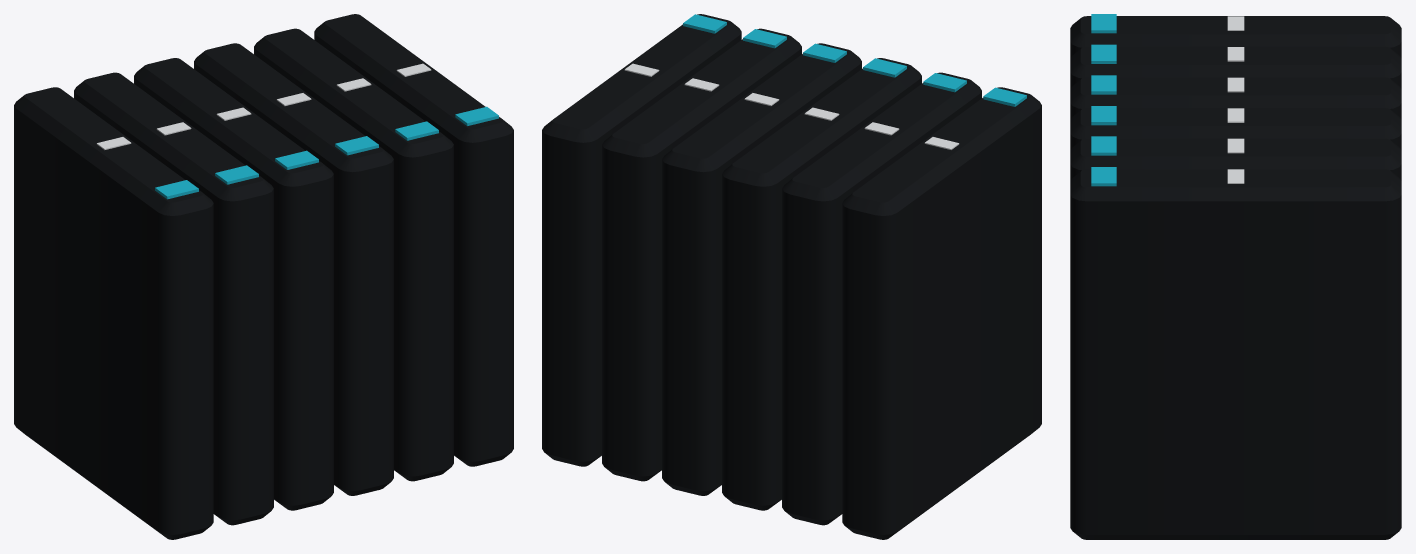
File: mcc3_memory.obj
3 views of the same model, side by side, from view 1: azimuth 30°, elevation 25°; view 2: azimuth 150°, elevation 25°; view 3: azimuth 270°, elevation 25° (orthographic). The views are drawn at different scales.
Visible parts, largest first — view 1: mcc3_memory; view 2: mcc3_memory; view 3: mcc3_memory.
Part boxes in pixels (left/top/right/bottom): mcc3_memory: left=14, top=14, right=513, bottom=539; mcc3_memory: left=542, top=14, right=1041, bottom=539; mcc3_memory: left=1070, top=14, right=1401, bottom=539.
Size of the model in its own units: 1.01 by 0.928 by 0.784.
